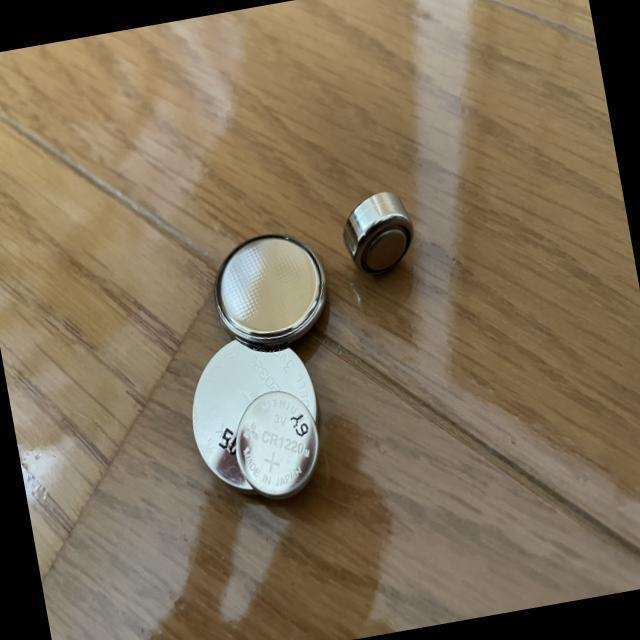COIN: (178, 324, 334, 506), (203, 222, 337, 360), (226, 382, 330, 508), (332, 180, 422, 284)
